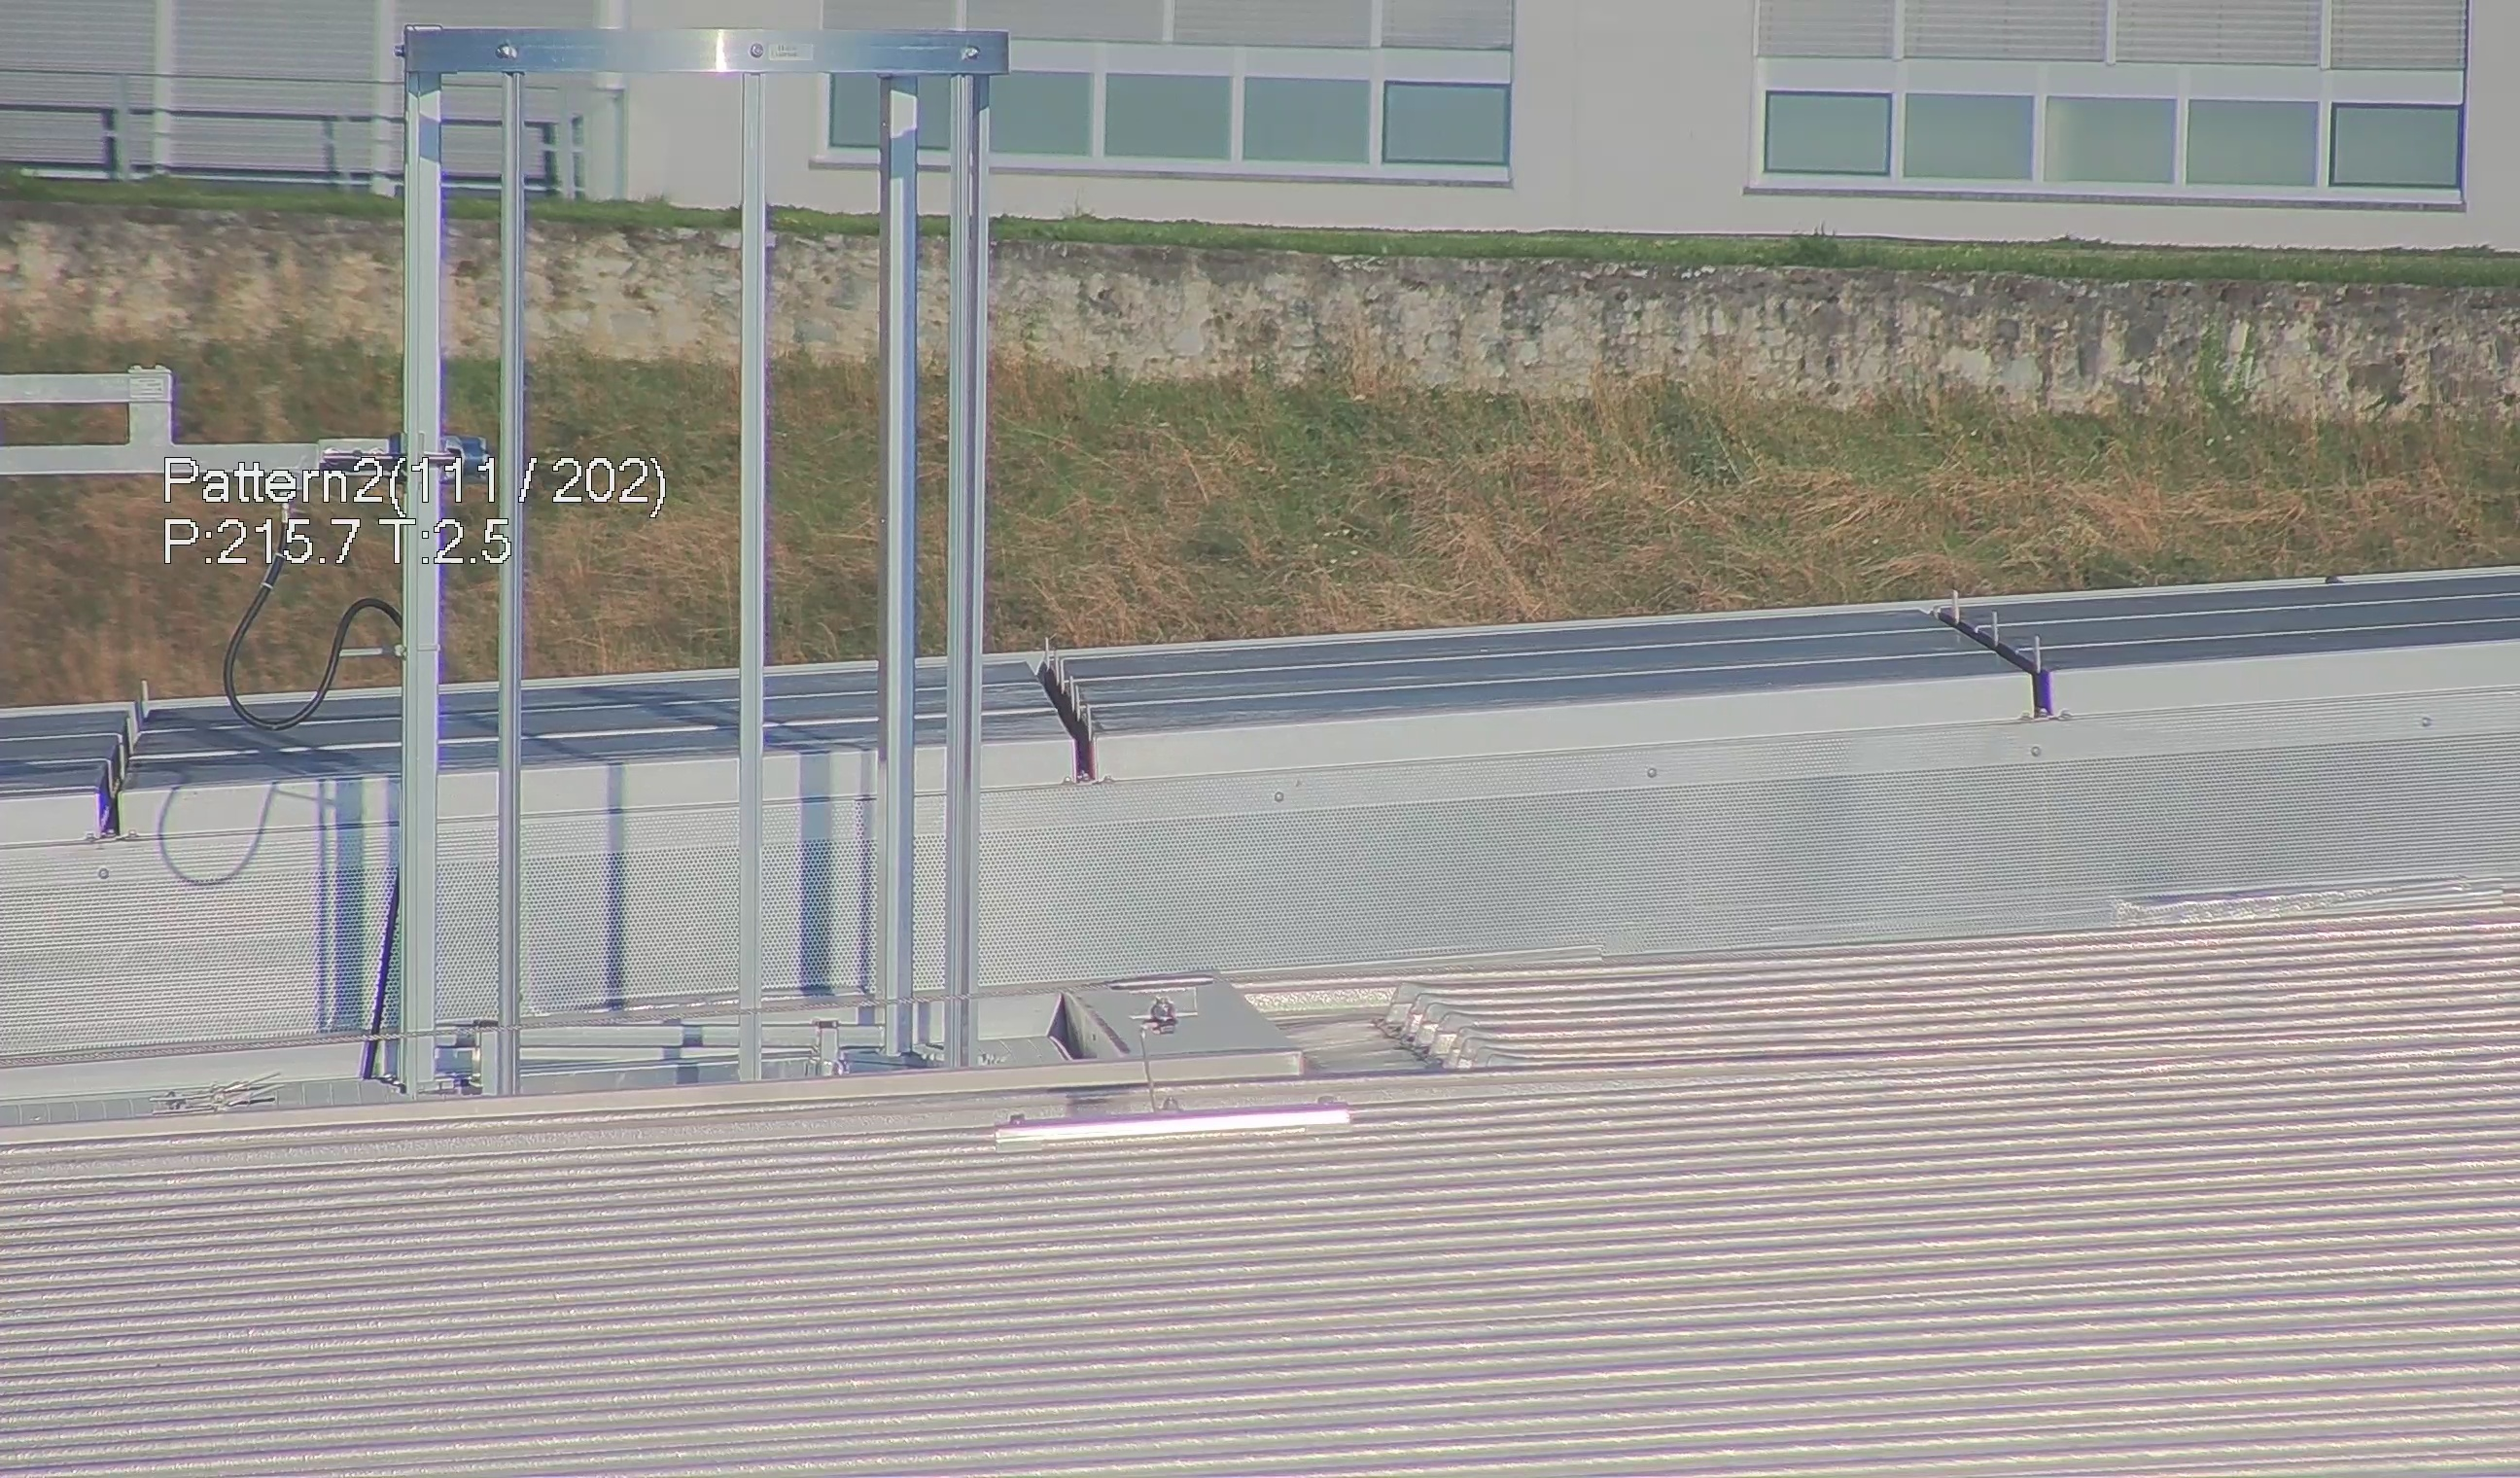Other: (1009, 632, 1113, 788)
